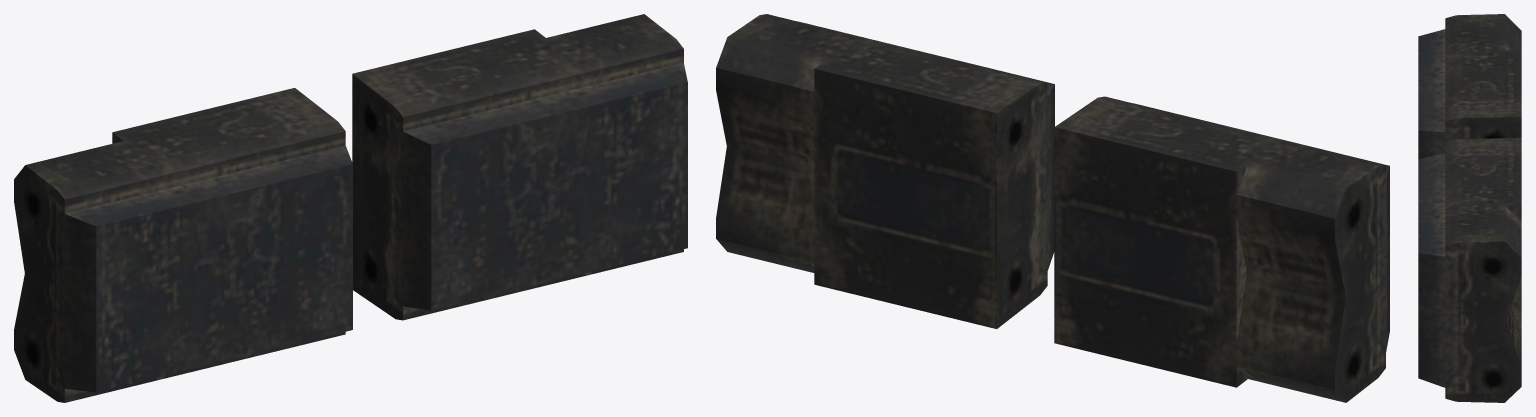
3 renders of one model, left to right at view 1: azimuth 30°, elevation 25°; view 2: azimuth 150°, elevation 25°; view 3: azimuth 270°, elevation 25°, orthographic. The views are drawn at different scales.
Visible parts, largest first — view 1: set_0_group_0; view 2: set_0_group_0; view 3: set_0_group_0.
Boxes of the visible parts, x1=… form: set_0_group_0: x1=14, y1=14, x2=687, y2=402; set_0_group_0: x1=716, y1=14, x2=1389, y2=402; set_0_group_0: x1=1418, y1=14, x2=1521, y2=402.
Bounding box in the file's own units: 0.5242 × 0.1747 × 0.1005.
1 material, 1 textured.
